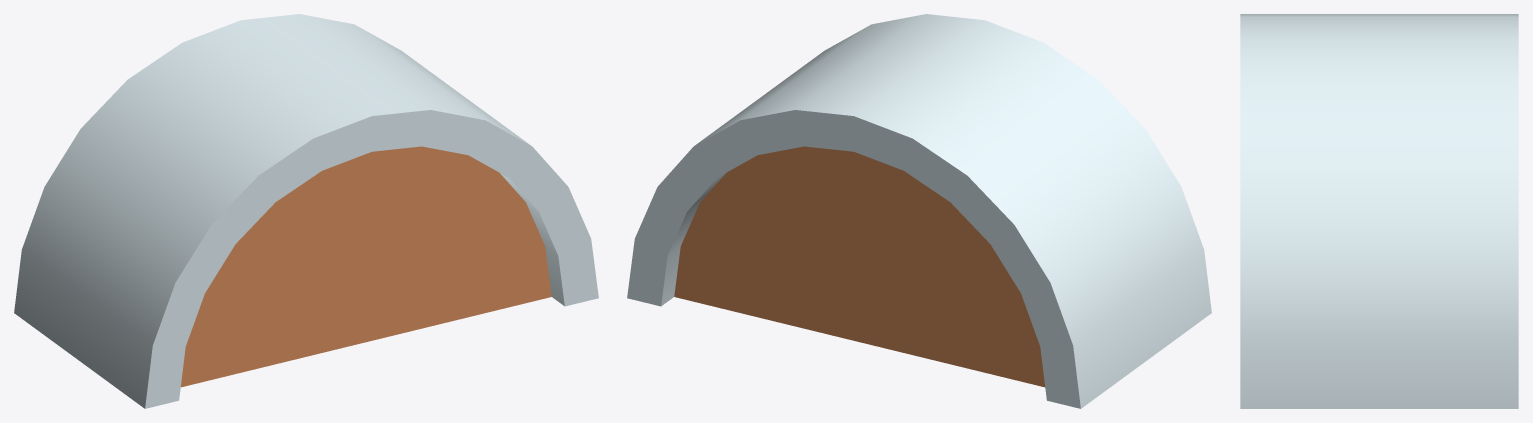
File: blockSnowCurve.obj
The picture shows the model from 3 angles, left to right: view 1: azimuth 30°, elevation 25°; view 2: azimuth 150°, elevation 25°; view 3: azimuth 270°, elevation 25°; orthographic projection. The views are drawn at different scales.
Visible parts, largest first — view 1: blockSnowCurve; view 2: blockSnowCurve; view 3: blockSnowCurve.
Part boxes in pixels (<box>): blockSnowCurve: <box>14,14,598,408</box>; blockSnowCurve: <box>627,14,1211,408</box>; blockSnowCurve: <box>1240,14,1518,408</box>.
Bounding box in the file's own units: 2 × 1 × 1.
